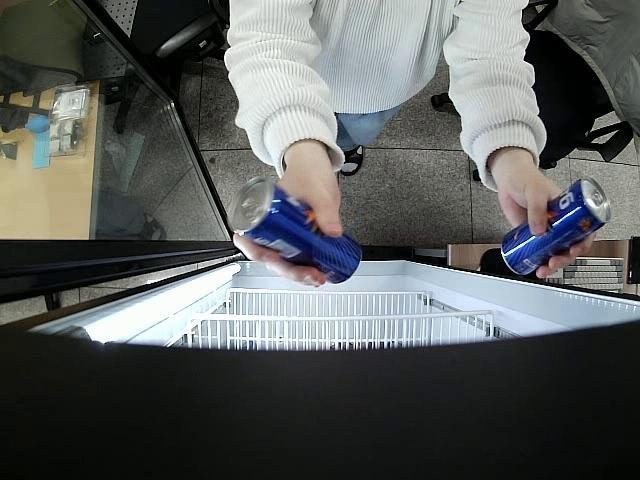16_hot6: (226, 176, 362, 284), (498, 177, 610, 277)
